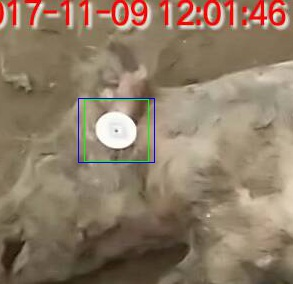text: (84, 99, 148, 161)
